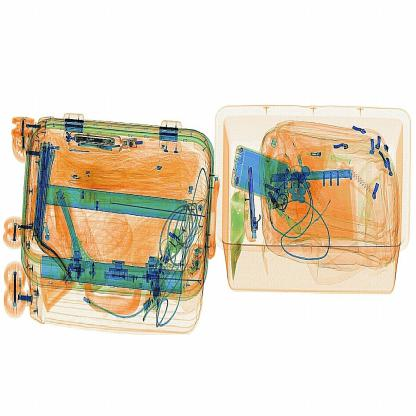pliers: (242, 166, 259, 250)
